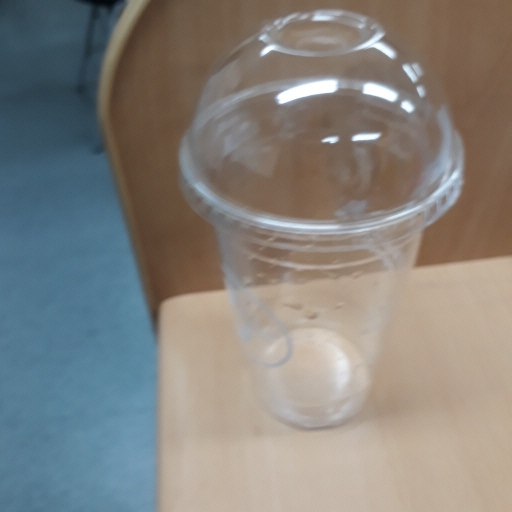Plastic_2: (178, 8, 464, 428)
